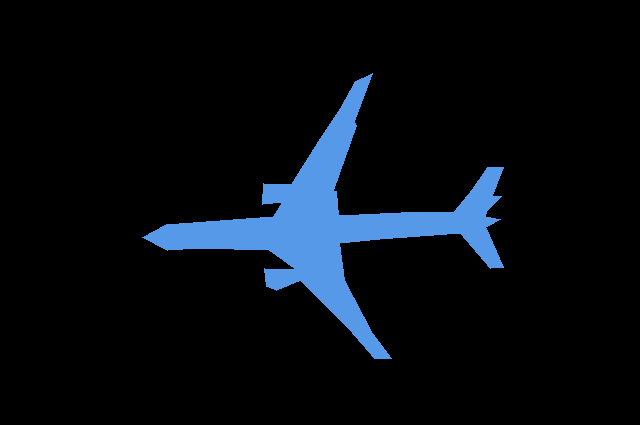Airplane: (142, 73, 503, 358)
